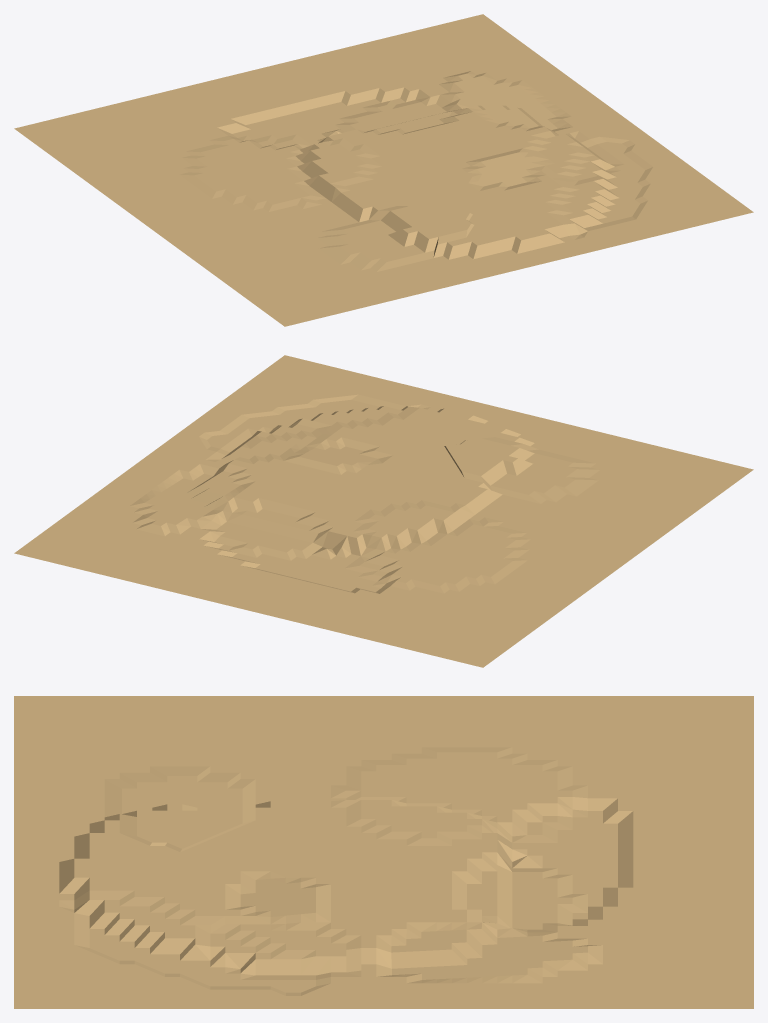
File: uneven_surface.dae
3 views of the same model, one above another, from view 1: azimuth 30°, elevation 25°; view 2: azimuth 150°, elevation 25°; view 3: azimuth 270°, elevation 25° (orthographic). The views are drawn at different scales.
Visible parts, largest first — view 1: Grid; view 2: Grid; view 3: Grid.
Part boxes in pixels (box(x1,y1,x2,y2)): Grid: box(14, 14, 753, 326); Grid: box(14, 355, 753, 667); Grid: box(14, 696, 753, 1008).
Bounding box in the file's own units: 4 × 4 × 0.1158.
